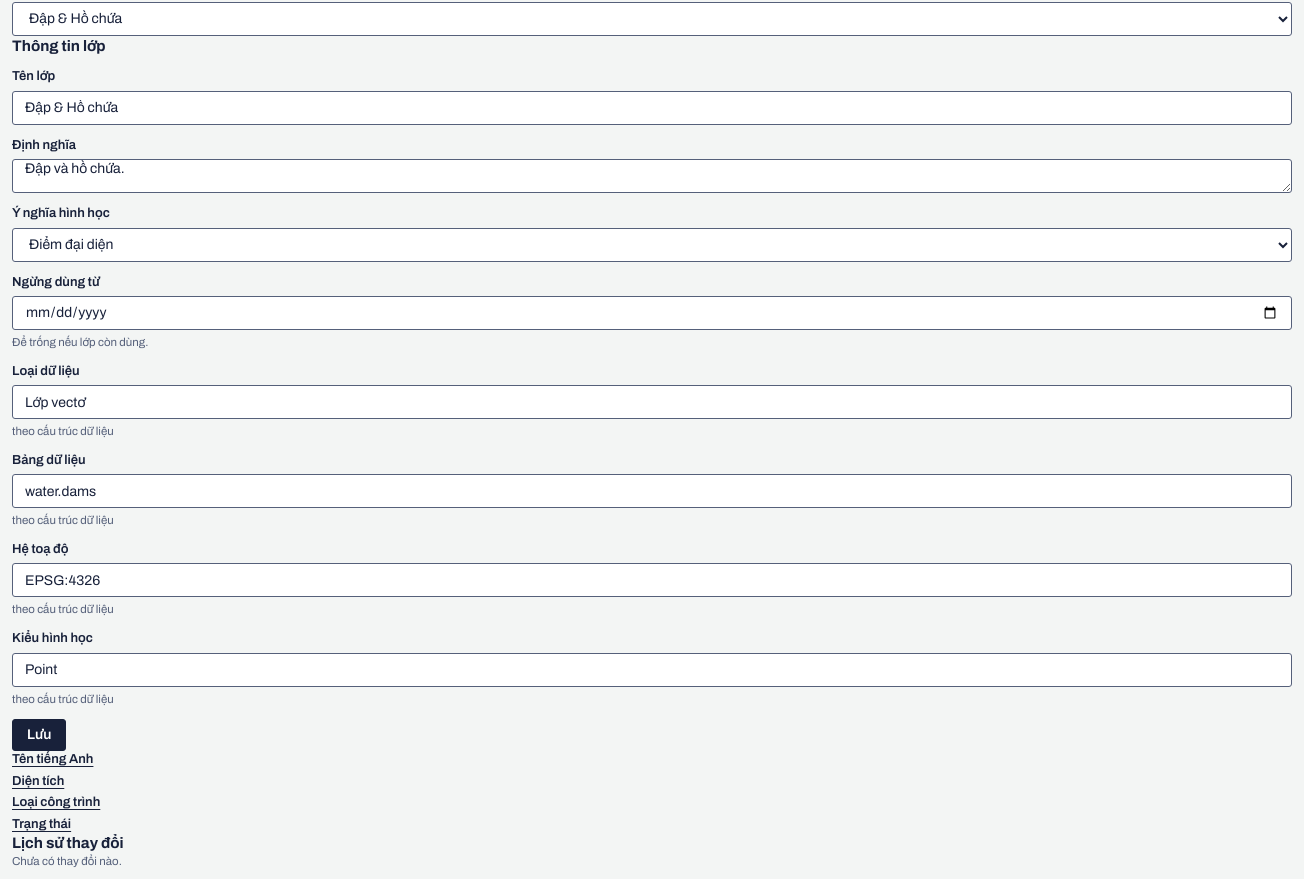
dictionary editor › a 400 shows the API message under its field
The image size is (1304, 879).
Step 1. Click the button "Diện tích" → (38, 781), box [12,774,64,788]
(page scrolled)
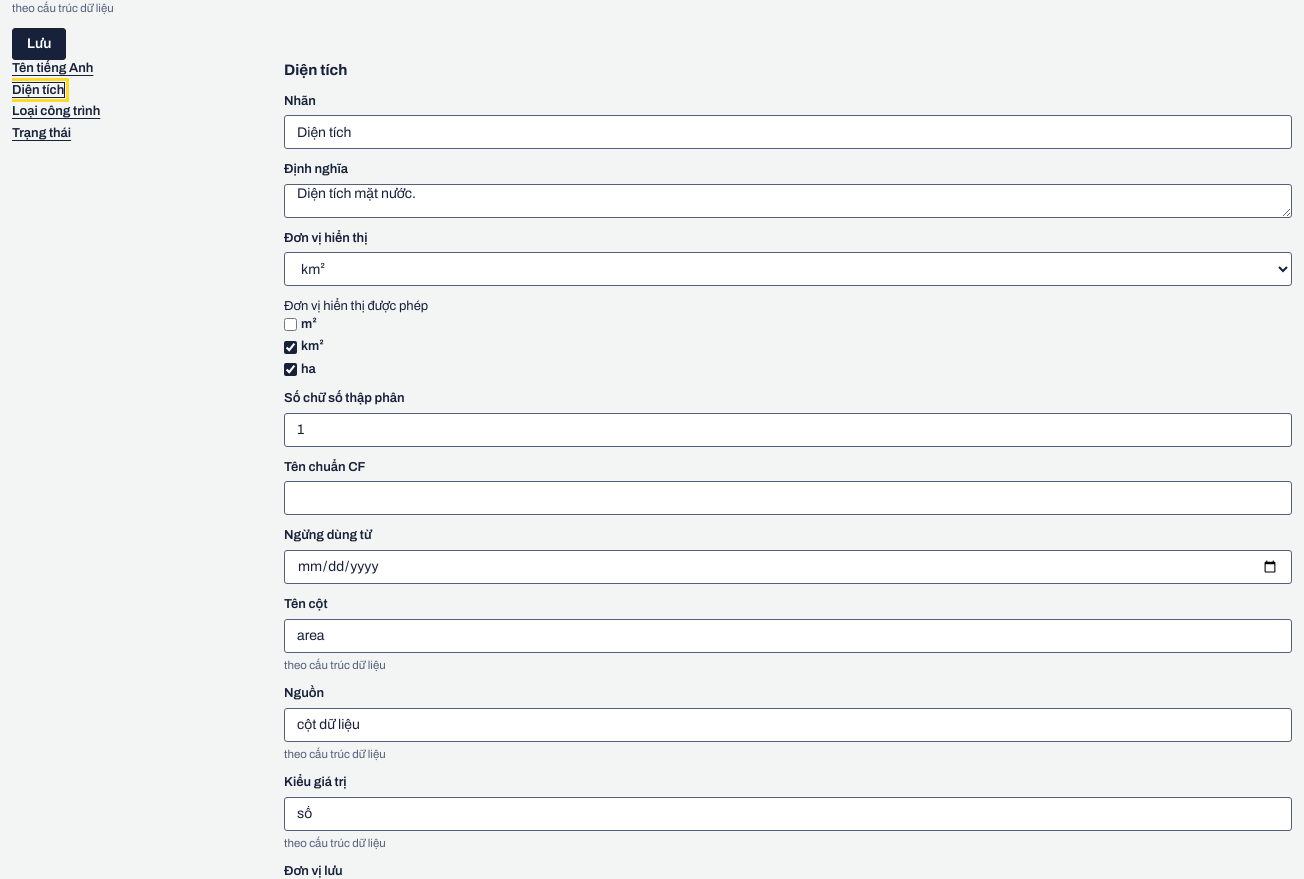
Step 2. Replace the text in the number field labelled "Số chữ số thập phân" with "3" → (788, 430), box [284,413,1292,447]
(page scrolled)
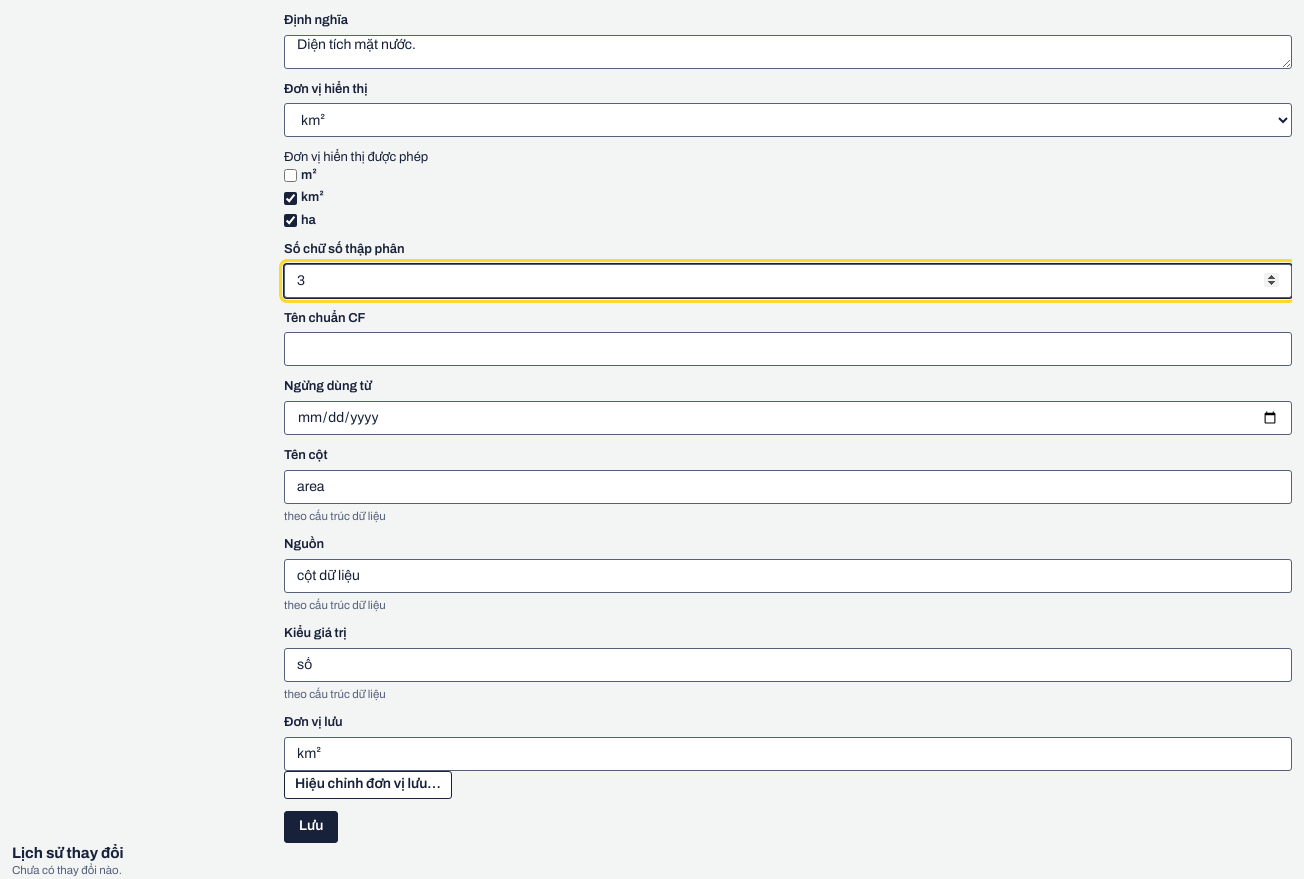
Step 3. Click the button "Lưu" → (311, 827), box [284,811,338,843]
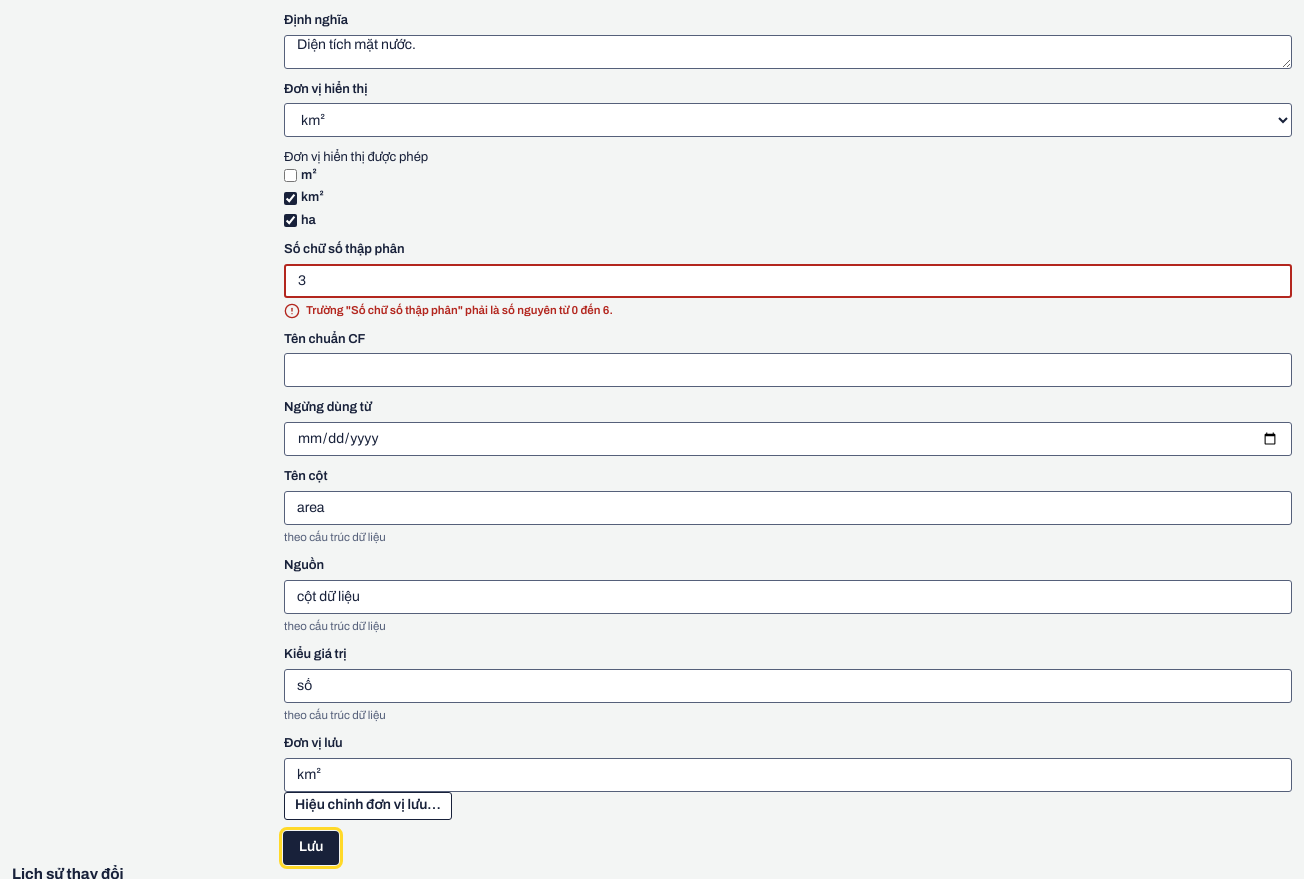
Expected: the text "Trường \"Số chữ số thập phân\" phải là số nguyên từ 0 đến 6." is shown, [284,303,613,319]
